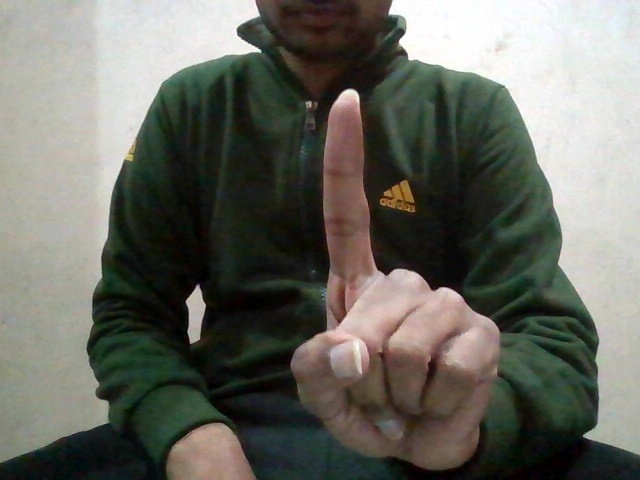D: (289, 84, 498, 468)
